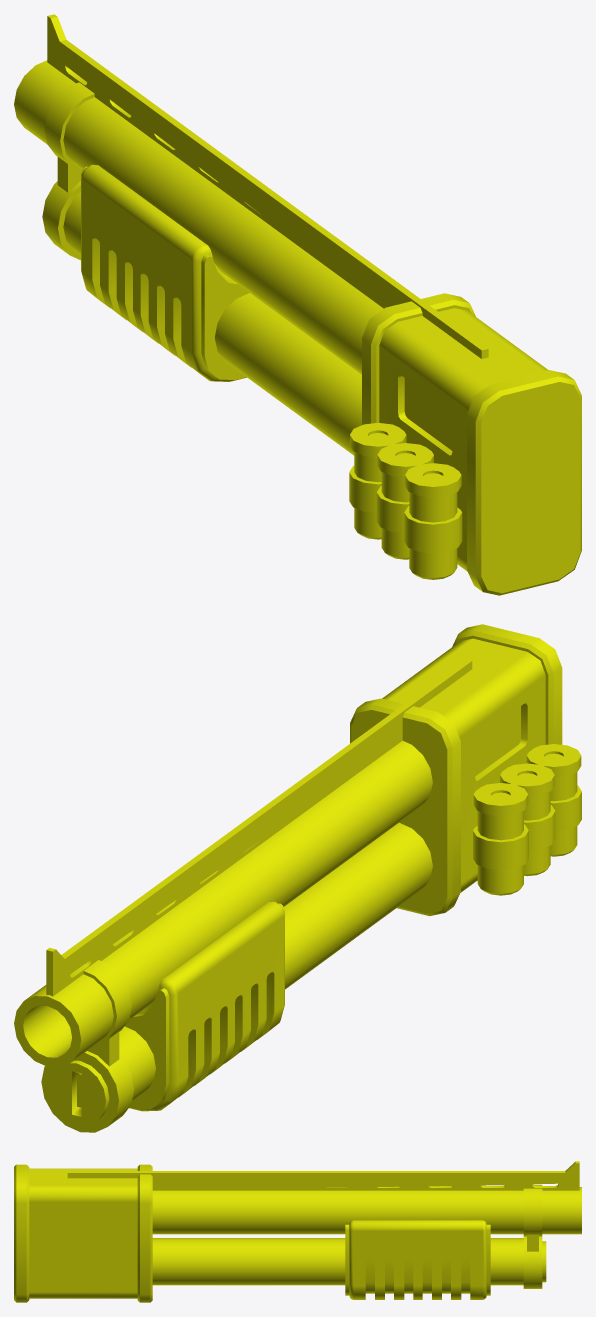
File: sHOTgUN.fbx
3 views of the same model, one above another, from view 1: azimuth 30°, elevation 25°; view 2: azimuth 150°, elevation 25°; view 3: azimuth 270°, elevation 25° (orthographic). The views are drawn at different scales.
Visible parts, largest first — view 1: Body, Handle; view 2: Body, Handle; view 3: Body, Handle.
Part boxes in pixels (bbox=[...]): Body: bbox=[14, 14, 581, 595]; Handle: bbox=[81, 164, 249, 381]; Body: bbox=[14, 624, 581, 1132]; Handle: bbox=[125, 901, 284, 1111]; Body: bbox=[14, 1161, 581, 1302]; Handle: bbox=[345, 1220, 490, 1299].
Bounding box in the file's own units: 1.65 × 9.3 × 2.38.
